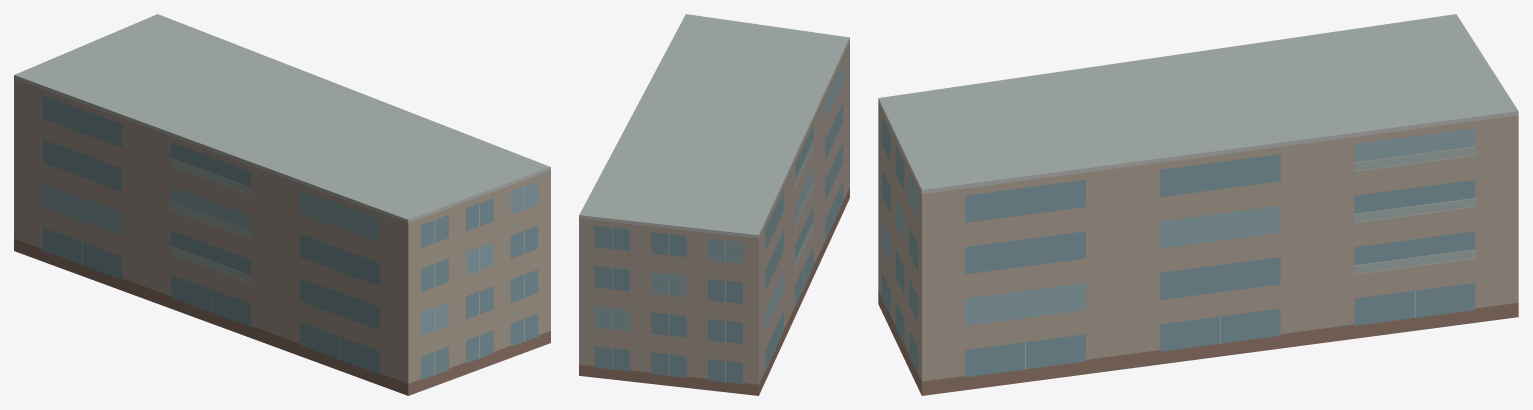
The model's file is residential-02dcb753-7ecd-4cad-ad45-2820a5c054d4.glb.
The picture shows the model from 3 angles, left to right: view 1: azimuth 30°, elevation 25°; view 2: azimuth 150°, elevation 25°; view 3: azimuth 270°, elevation 25°; orthographic projection. The views are drawn at different scales.
Visible parts, largest first — view 1: residential-02dcb753-7ecd-4cad-ad45-2820a5c054d4.tmp; view 2: residential-02dcb753-7ecd-4cad-ad45-2820a5c054d4.tmp; view 3: residential-02dcb753-7ecd-4cad-ad45-2820a5c054d4.tmp.
Boxes of the visible parts, x1=… form: residential-02dcb753-7ecd-4cad-ad45-2820a5c054d4.tmp: x1=14, y1=14, x2=550, y2=395; residential-02dcb753-7ecd-4cad-ad45-2820a5c054d4.tmp: x1=579, y1=14, x2=849, y2=395; residential-02dcb753-7ecd-4cad-ad45-2820a5c054d4.tmp: x1=878, y1=14, x2=1518, y2=395.
Size of the model in its own units: 22.37 by 12.2 by 34.39.
